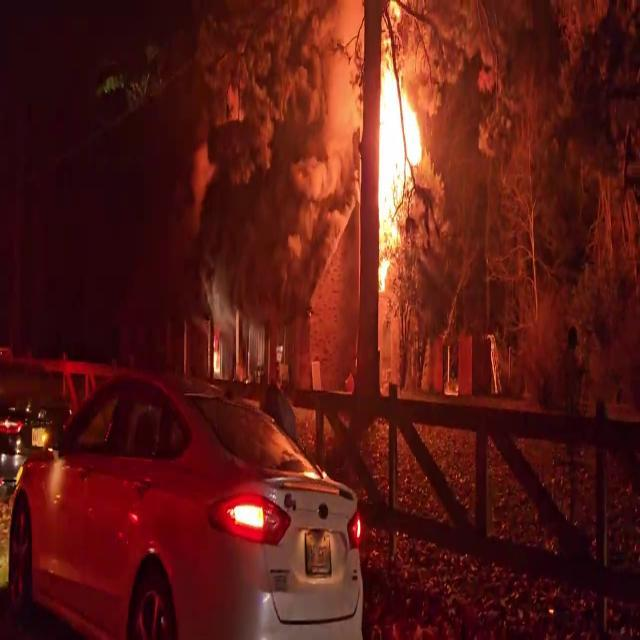Fire: (374, 54, 428, 274)
